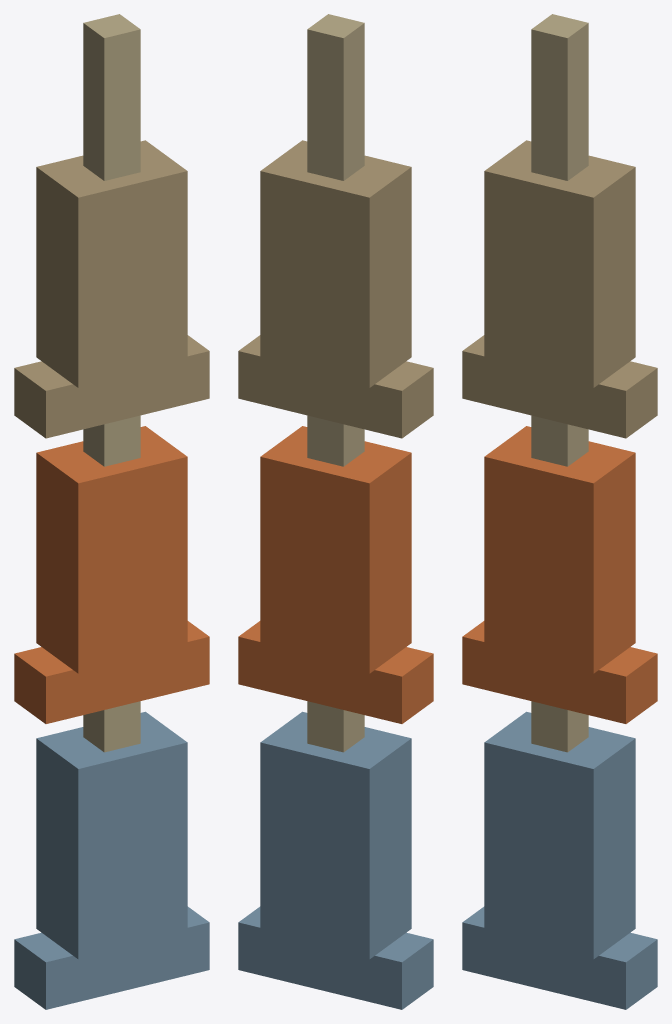
Rendered from cp-fish-line.glb.
3 views of the same model, side by side, from view 1: azimuth 30°, elevation 25°; view 2: azimuth 150°, elevation 25°; view 3: azimuth 330°, elevation 25° (orthographic).
Parts seen in each view (by area): view 1: box-prop; view 2: box-prop; view 3: box-prop.
Boxes of the visible parts, x1=… form: box-prop: x1=14, y1=14, x2=209, y2=1009; box-prop: x1=238, y1=14, x2=433, y2=1009; box-prop: x1=462, y1=14, x2=657, y2=1009.
Size of the model in its own units: 0.18 by 1 by 0.08.
